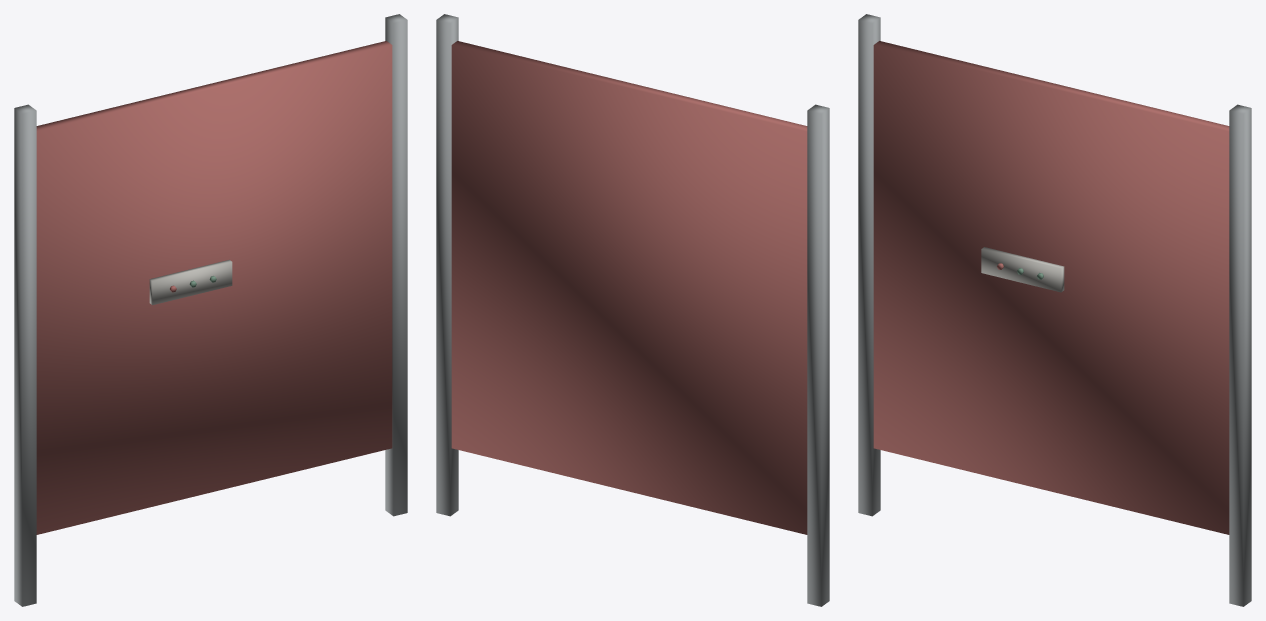
File: welding_screen.glb
3 views of the same model, side by side, from view 1: azimuth 30°, elevation 25°; view 2: azimuth 150°, elevation 25°; view 3: azimuth 330°, elevation 25° (orthographic).
Visible parts, largest first — view 1: world; view 2: world; view 3: world.
Boxes of the visible parts, bbox=[...] form: world: bbox=[14, 14, 407, 606]; world: bbox=[436, 14, 829, 606]; world: bbox=[858, 14, 1251, 606].
Bounding box in the file's own units: 1.35 × 1.65 × 0.081.
